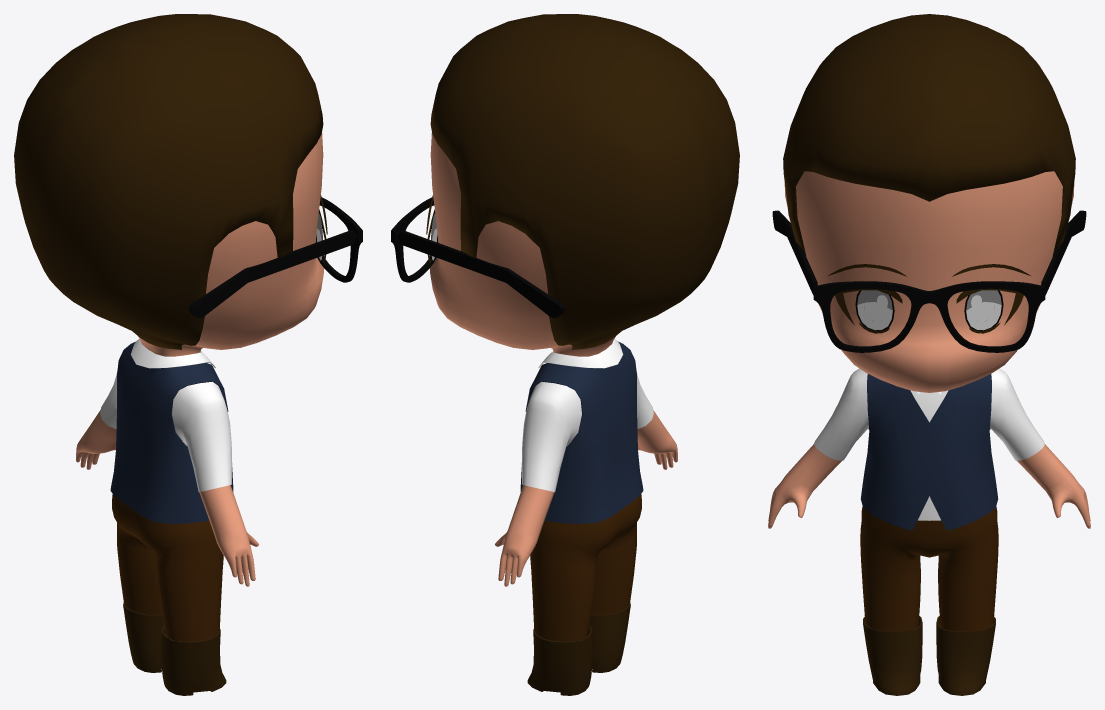
Rendered from Yeray.fbx.
The picture shows the model from 3 angles, left to right: view 1: azimuth 30°, elevation 25°; view 2: azimuth 150°, elevation 25°; view 3: azimuth 270°, elevation 25°; orthographic projection.
Visible parts, largest first — view 1: M.Base.002, M.Base, Vest, Pants, Shirt, M.Base.001, Cube.016, Glasses; view 2: M.Base.002, M.Base, Vest, Pants, Shirt, M.Base.001, Cube.016, Glasses; view 3: M.Base.002, M.Base, Vest, Pants, M.Base.001, Shirt, Glasses, Cube.016, Plane.022, Plane.013, Plane.023, Plane.015.
Part boxes in pixels (x1=…): M.Base.002: x1=14, y1=14, x2=323, y2=349; M.Base: x1=76, y1=133, x2=323, y2=586; Vest: x1=110, y1=341, x2=233, y2=523; Pants: x1=112, y1=494, x2=223, y2=641; Shirt: x1=100, y1=339, x2=232, y2=492; M.Base.001: x1=123, y1=602, x2=226, y2=695; Cube.016: x1=188, y1=230, x2=356, y2=318; Glasses: x1=315, y1=197, x2=362, y2=282; M.Base.002: x1=430, y1=14, x2=739, y2=349; M.Base: x1=430, y1=133, x2=677, y2=586; Vest: x1=520, y1=341, x2=643, y2=523; Pants: x1=530, y1=494, x2=641, y2=641; Shirt: x1=521, y1=339, x2=653, y2=492; M.Base.001: x1=527, y1=602, x2=630, y2=695; Cube.016: x1=397, y1=230, x2=565, y2=318; Glasses: x1=391, y1=197, x2=438, y2=282; M.Base.002: x1=783, y1=14, x2=1075, y2=255; M.Base: x1=768, y1=171, x2=1090, y2=528; Vest: x1=860, y1=374, x2=998, y2=530; Pants: x1=860, y1=506, x2=998, y2=631; M.Base.001: x1=863, y1=616, x2=995, y2=695; Shirt: x1=814, y1=368, x2=1044, y2=520; Glasses: x1=813, y1=281, x2=1045, y2=352; Cube.016: x1=772, y1=210, x2=1086, y2=295; Plane.022: x1=857, y1=302, x2=1001, y2=330; Plane.013: x1=835, y1=288, x2=1023, y2=324; Plane.023: x1=857, y1=290, x2=1001, y2=310; Plane.015: x1=827, y1=264, x2=1031, y2=276.
Size of the model in its own units: 378 by 843 by 381.
